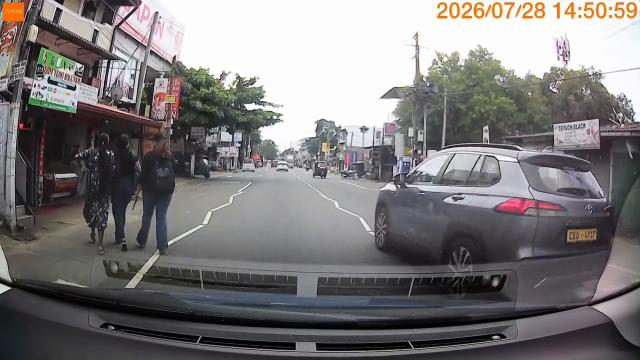illegal overtaking: (366, 137, 614, 270)
number plate: (564, 223, 604, 246)
